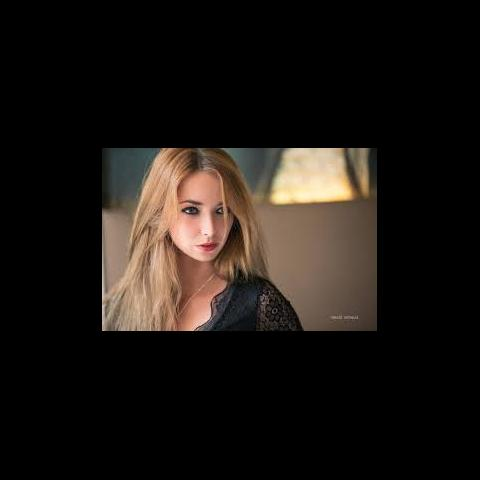opened: (174, 196, 234, 221)
